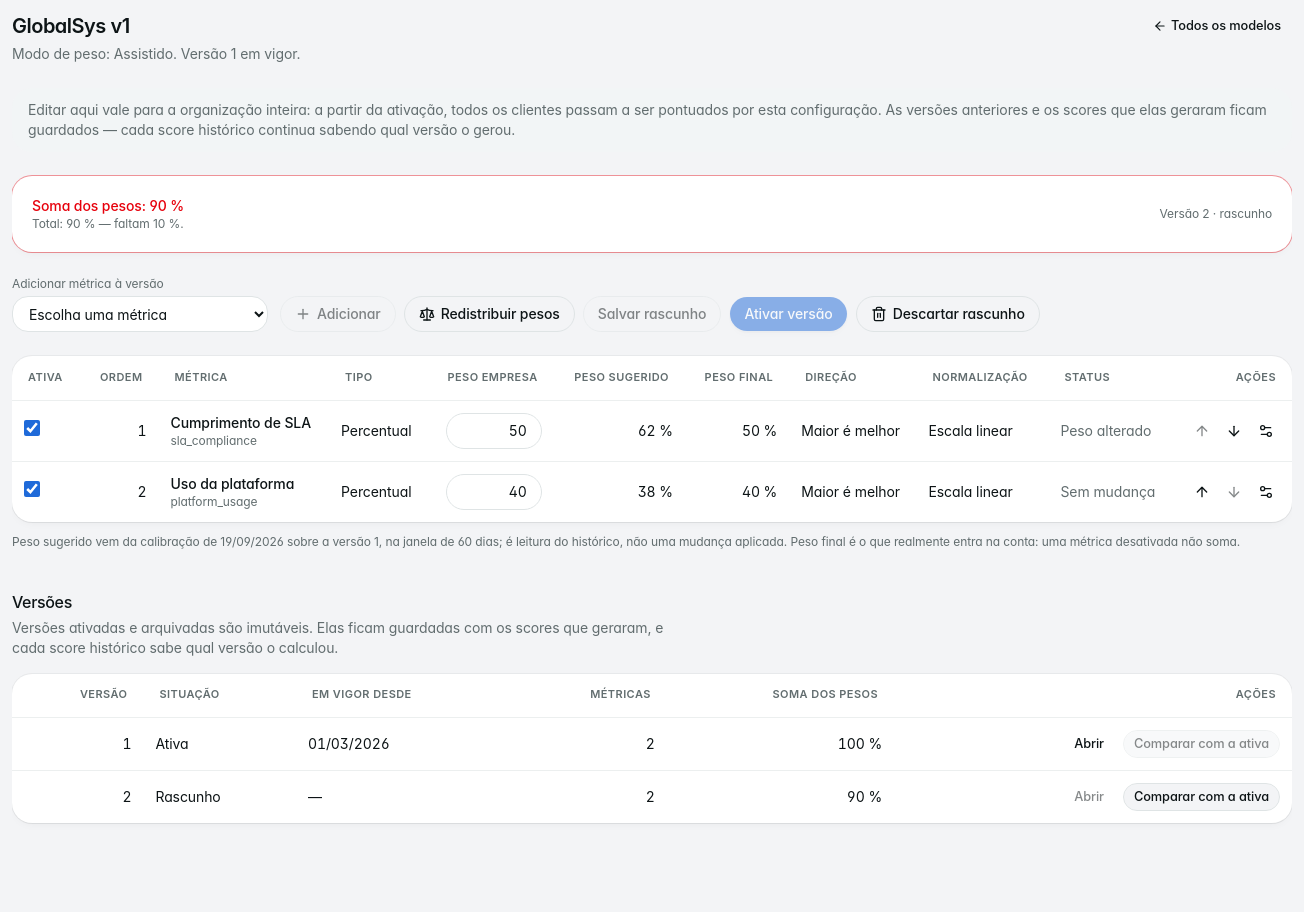
MetricModelDetailPage (/metric-models/:id) — pesos › a redistribuição é uma proposta: só muda o rascunho depois de aplicar
Expected: the table named "Métricas do modelo" is shown, [12,356,1292,522]
Click the button "Redistribuir pesos" at (489, 314), box [404,296,575,332]
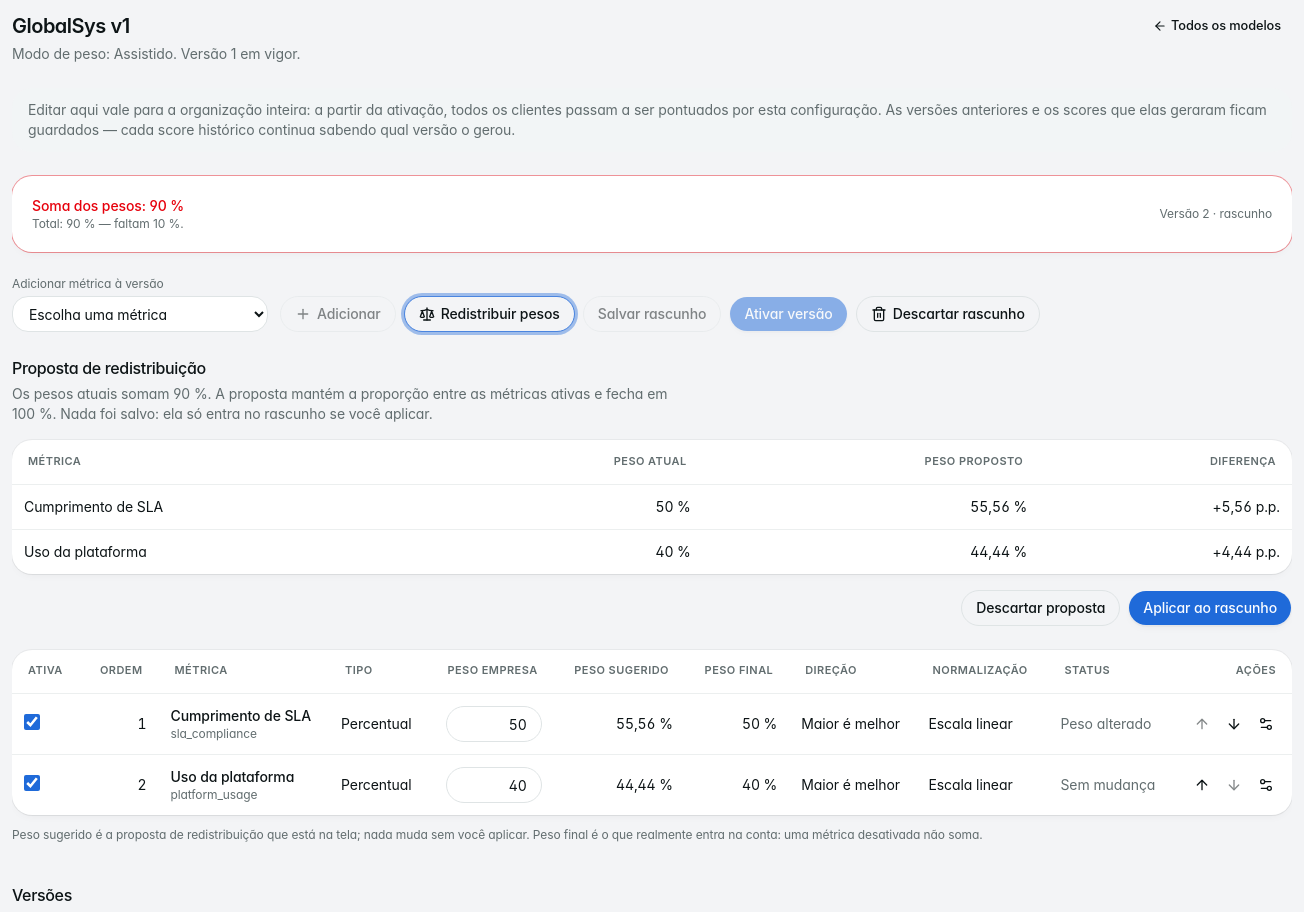
Expected: the text "55,56 %" in the row of "+5,56 p.p." is shown, [970,498,1027,514]
Click the button "Aplicar ao rascunho" at (1210, 608), box [1128,590,1292,626]
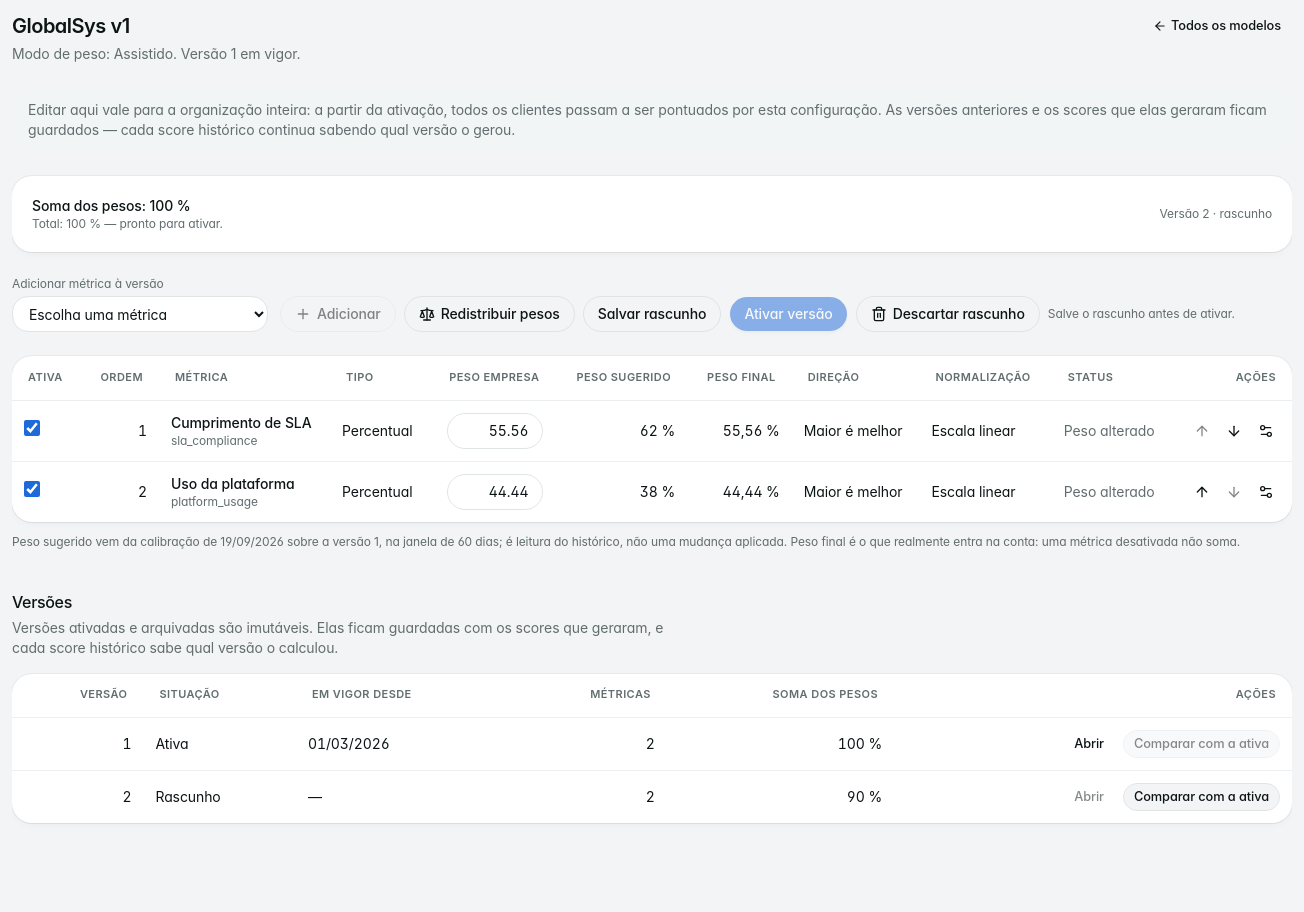
Expected: the text "Soma dos pesos: 100 %" is shown, [32,197,191,214]
